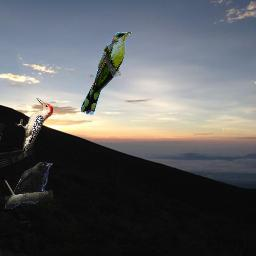Crow: (5, 162, 53, 209)
Cuckoo: (81, 32, 132, 115)
Woodpecker: (15, 98, 54, 156)
